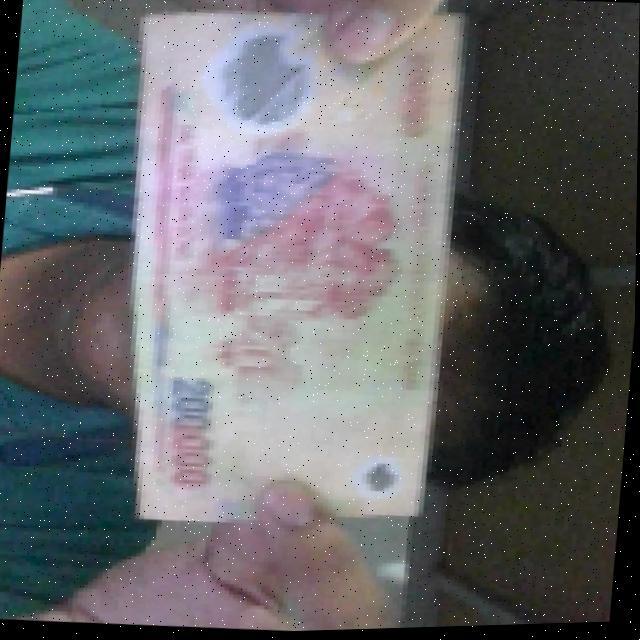200 000 VND: (98, 0, 478, 544)
